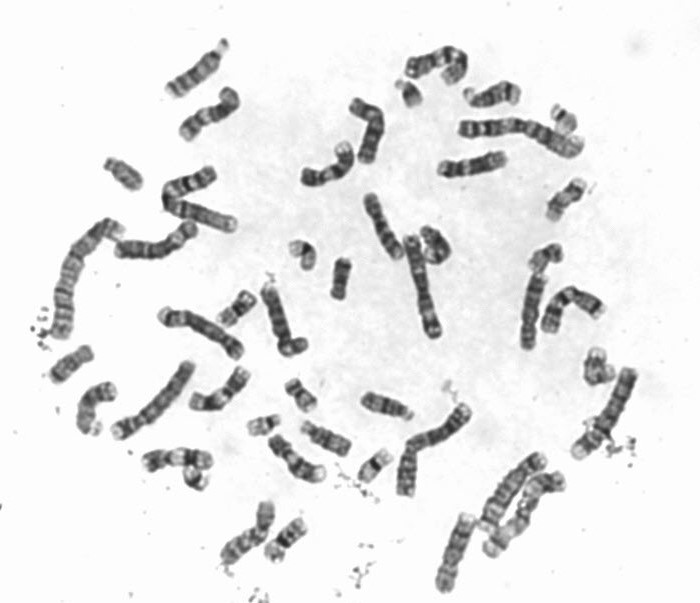chromosomes: (39, 216, 128, 345), (477, 471, 573, 562), (395, 400, 477, 500), (110, 359, 198, 448), (567, 367, 644, 466), (161, 161, 248, 236), (477, 447, 550, 536), (455, 114, 590, 160), (153, 304, 248, 362), (158, 34, 236, 103), (174, 79, 253, 147), (214, 499, 283, 573), (255, 279, 313, 360), (403, 232, 445, 343), (433, 508, 482, 603), (106, 219, 204, 263), (537, 283, 608, 339), (358, 189, 410, 265), (262, 430, 329, 488), (402, 39, 482, 87), (346, 92, 392, 171), (294, 141, 358, 197), (185, 365, 256, 413), (424, 146, 509, 186), (74, 378, 122, 446), (43, 340, 103, 388), (259, 516, 314, 568), (516, 271, 549, 355), (100, 150, 152, 203), (456, 76, 531, 111), (299, 420, 355, 462), (358, 387, 418, 424), (540, 178, 588, 224), (136, 449, 220, 474), (415, 221, 457, 270), (581, 340, 618, 394), (352, 444, 396, 489), (525, 234, 573, 273), (388, 73, 429, 115), (281, 236, 321, 277), (217, 288, 258, 328), (282, 374, 320, 417), (325, 254, 354, 306), (547, 100, 581, 143), (178, 457, 212, 496), (242, 411, 284, 436)
